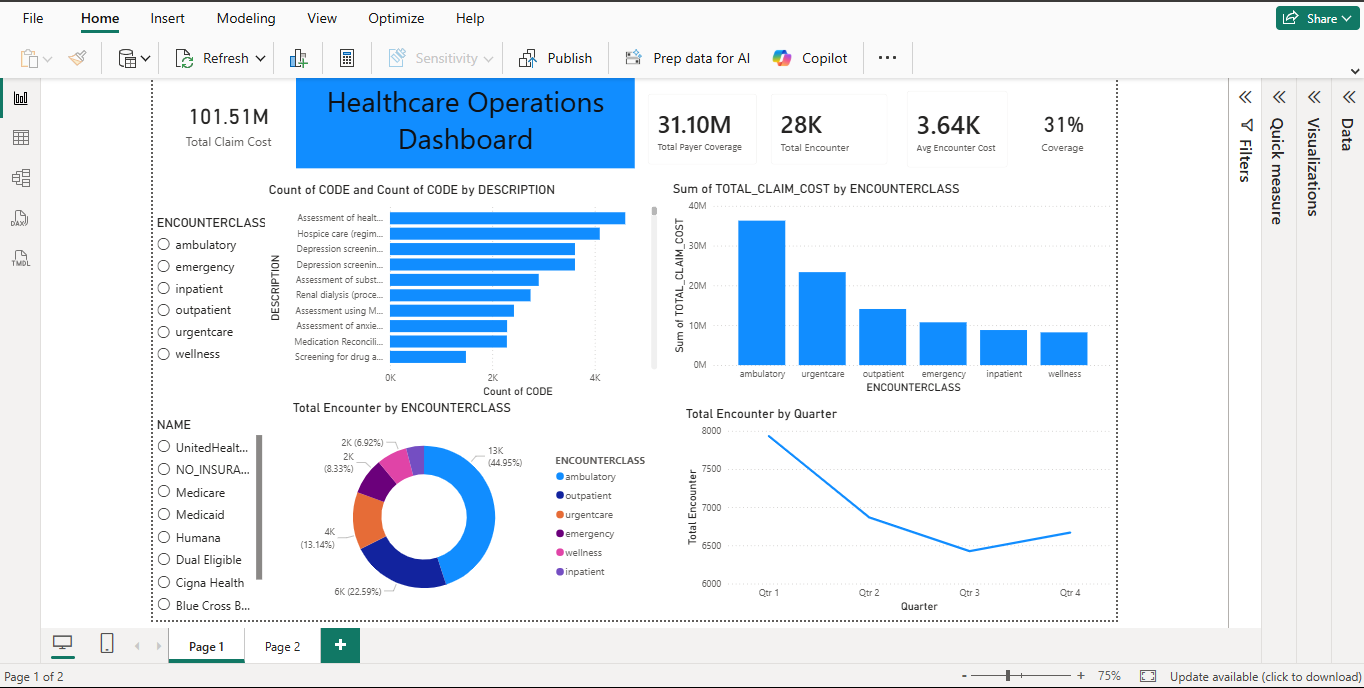

The page's visual inventory and layout, read from the dashboard file:
{"tool":"powerbi","page":{"name":"Page 1","canvas":[1280,720],"ordinal":0},"visuals":[{"type":"lineChart","fields":{"Category":["encounters.START.Variation.Date Hierarchy.Year","encounters.START.Variation.Date Hierarchy.Quarter","encounters.START.Variation.Date Hierarchy.Month","encounters.START.Variation.Date Hierarchy.Day"],"Y":["encounters.Total Encounter"]},"box":[702.7,435.7,573.9,279],"z":0},{"type":"donutChart","fields":{"Category":["encounters.ENCOUNTERCLASS"],"Y":["encounters.Total Encounter"]},"box":[180.4,427.1,494.8,291.8],"z":1000},{"type":"clusteredColumnChart","fields":{"Category":["encounters.ENCOUNTERCLASS"],"Y":["Sum(encounters.TOTAL_CLAIM_COST)"]},"box":[685.1,136.7,594.9,287.6],"z":2000},{"type":"listSlicer","fields":{"Values":["payers.NAME"]},"box":[0,450.1,150,269.8],"z":3000},{"type":"listSlicer","fields":{"Values":["encounters.ENCOUNTERCLASS"]},"box":[0,182,162.1,265.7],"z":4000},{"type":"card","fields":{"Values":["Sum(encounters.TOTAL_CLAIM_COST)"]},"box":[0,0,200.6,119.6],"z":5000},{"type":"cardVisual","fields":{"Data":["Sum(encounters.PAYER_COVERAGE)"]},"box":[640.3,4,179.3,128.9],"z":6000},{"type":"cardVisual","fields":{"Data":["encounters.Total Encounter"]},"box":[803.7,4,190,128.9],"z":7000},{"type":"cardVisual","fields":{"Data":["encounters.Avg Encounter Cost"]},"box":[984.4,0,168.7,136.8],"z":8000},{"type":"card","fields":{"Values":["payers.Coverage %"]},"box":[1139.6,0,140.4,136.3],"z":9000},{"type":"textbox","box":[190,0,450.3,119.6],"z":10000},{"type":"clusteredBarChart","fields":{"Category":["procedures.DESCRIPTION"],"Y":["CountNonNull(procedures.CODE)"]},"box":[148.8,138.2,526.1,290.9],"z":11000}]}

Visuals, with their boxes on the page's 1280x720 design canvas (x1, y1, x2, y2). These are canvas units, not pixel positions in the 1364x688 screenshot, which may show the page scaled, cropped or inside an application window:
lineChart - encounters.START.Variation.Date Hierarchy.Year x encounters.START.Variation.Date Hierarchy.Quarter: rect(703, 436, 1277, 715)
donutChart - encounters.ENCOUNTERCLASS x encounters.Total Encounter: rect(180, 427, 675, 719)
clusteredColumnChart - encounters.ENCOUNTERCLASS x Sum(encounters.TOTAL_CLAIM_COST): rect(685, 137, 1280, 424)
listSlicer - payers.NAME: rect(0, 450, 150, 720)
listSlicer - encounters.ENCOUNTERCLASS: rect(0, 182, 162, 448)
card - Sum(encounters.TOTAL_CLAIM_COST): rect(0, 0, 201, 120)
cardVisual - Sum(encounters.PAYER_COVERAGE): rect(640, 4, 820, 133)
cardVisual - encounters.Total Encounter: rect(804, 4, 994, 133)
cardVisual - encounters.Avg Encounter Cost: rect(984, 0, 1153, 137)
card - payers.Coverage %: rect(1140, 0, 1280, 136)
textbox: rect(190, 0, 640, 120)
clusteredBarChart - procedures.DESCRIPTION x CountNonNull(procedures.CODE): rect(149, 138, 675, 429)
